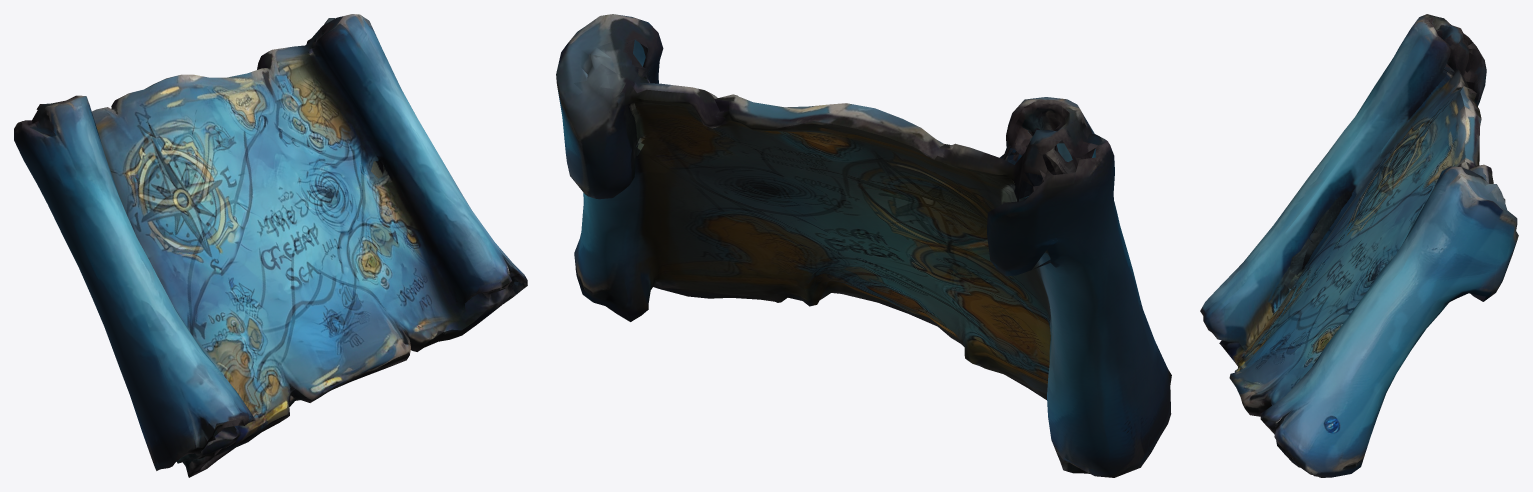
Rendered from ocean_map.glb.
3 views of the same model, side by side, from view 1: azimuth 30°, elevation 25°; view 2: azimuth 150°, elevation 25°; view 3: azimuth 270°, elevation 25° (orthographic). The views are drawn at different scales.
Visible parts, largest first — view 1: Treasure Map; view 2: Treasure Map; view 3: Treasure Map.
Boxes of the visible parts, left/top/right/bottom form: Treasure Map: left=14, top=14, right=527, bottom=477; Treasure Map: left=556, top=14, right=1171, bottom=477; Treasure Map: left=1200, top=14, right=1518, bottom=477.
Size of the model in its own units: 1.1 by 0.8 by 0.67.
Materials: 1 (1 with a texture image).
